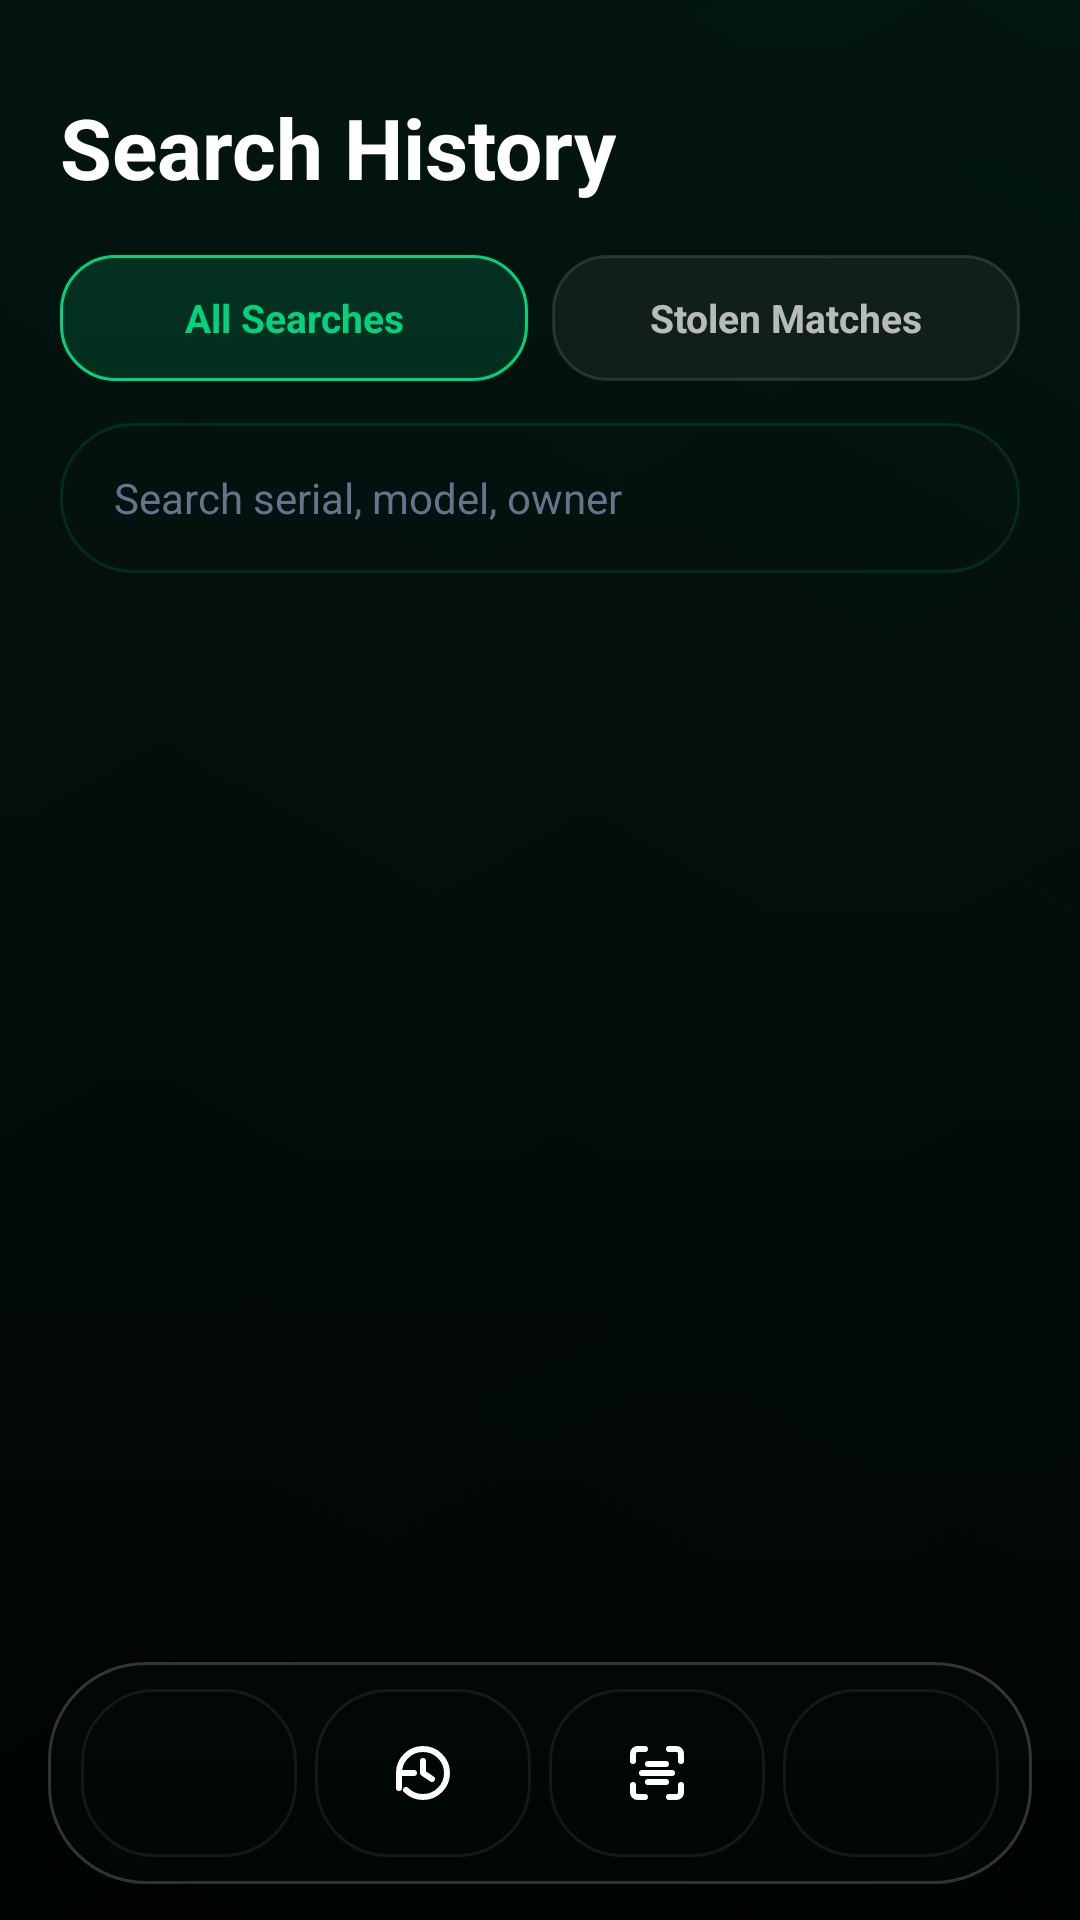

Named icons in this screenshot (1080*1920) and their centers, point (x, y):
history: point (423, 1773)
scan: point (657, 1773)
